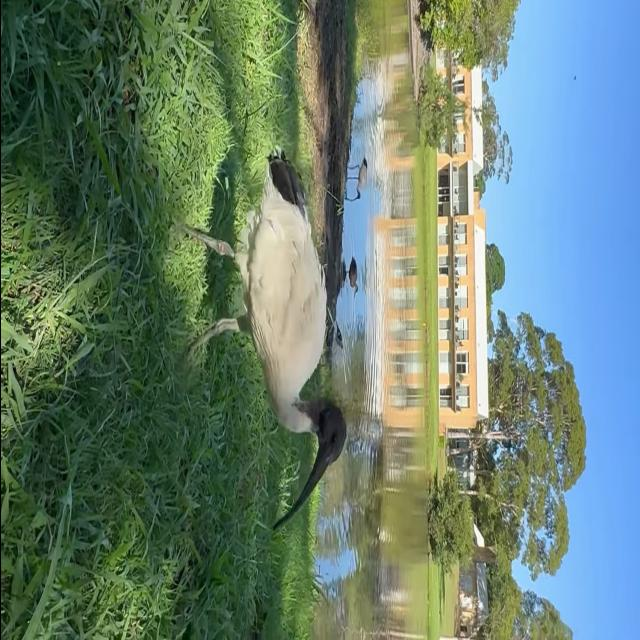Birds-Ibis: (168, 142, 352, 538), (342, 154, 372, 210)
Birds-Other: (342, 255, 360, 301)
